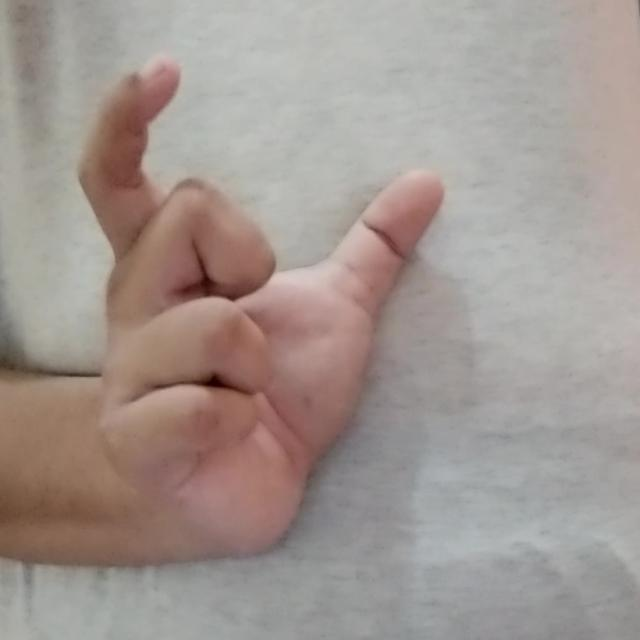U: (61, 45, 475, 582)
